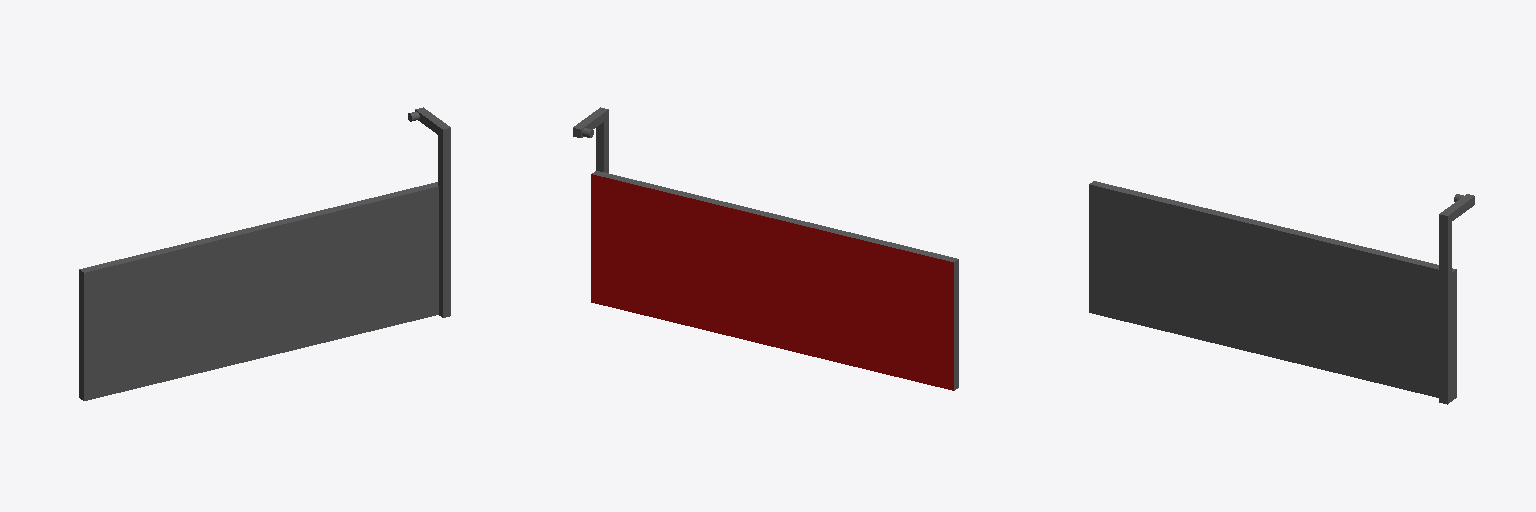
Rendered from ReleaseAssemblyArm.obj.
3 views of the same model, side by side, from view 1: azimuth 30°, elevation 25°; view 2: azimuth 150°, elevation 25°; view 3: azimuth 330°, elevation 25° (orthographic).
Visible parts, largest first — view 1: Release_Assembly_Arm; view 2: Release_Assembly_Arm; view 3: Release_Assembly_Arm.
Boxes of the visible parts, box(x1,y1,x2,y2) form: Release_Assembly_Arm: box(79, 107, 450, 400); Release_Assembly_Arm: box(573, 107, 958, 390); Release_Assembly_Arm: box(1089, 181, 1474, 404).
Size of the model in its own units: 1.07 by 0.5321 by 0.1423.